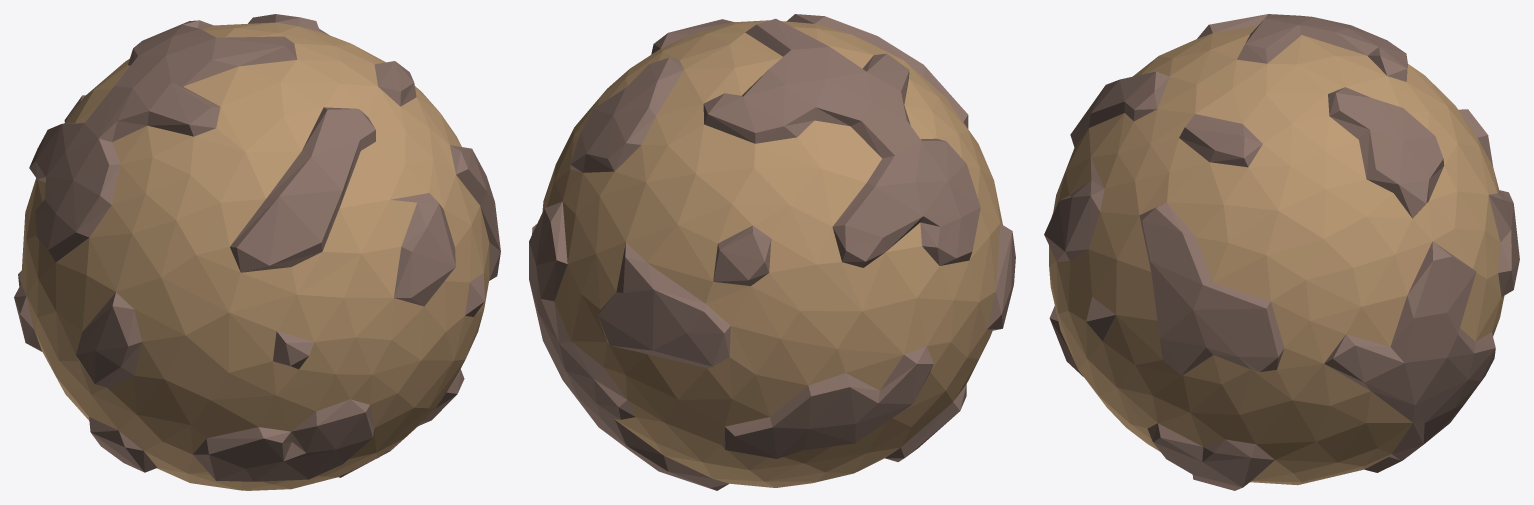
Rendered from Mercury.fbx.
3 renders of one model, left to right at view 1: azimuth 30°, elevation 25°; view 2: azimuth 150°, elevation 25°; view 3: azimuth 270°, elevation 25°, orthographic.
Parts seen in each view (by area): view 1: Mercury; view 2: Mercury; view 3: Mercury.
Part boxes in pixels (x1,y1,x2,y2): Mercury: (14,14,500,490); Mercury: (529,14,1015,490); Mercury: (1044,14,1519,490).
Bounding box in the file's own units: 35.82 × 35.45 × 36.01.
Materials: 1 (1 with a texture image).
